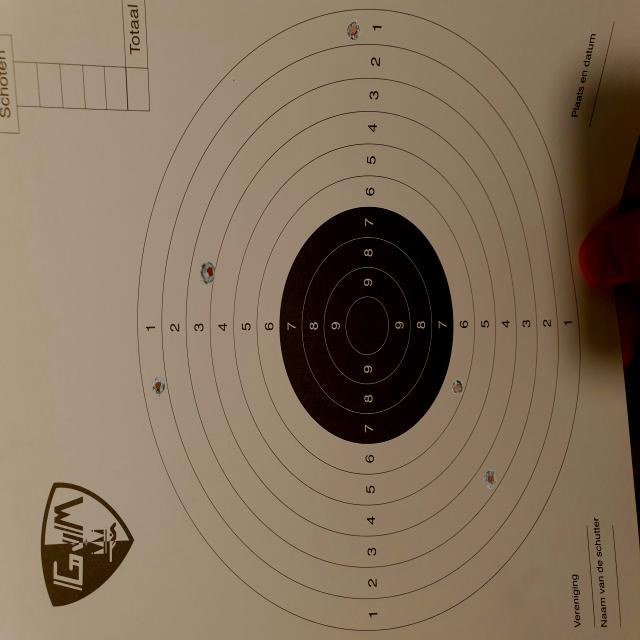1: (346, 18, 361, 42), (152, 375, 165, 397)
3: (483, 468, 497, 489)
4: (200, 261, 217, 285)
6: (452, 379, 464, 395)
Target: (137, 8, 579, 632)
black_contour: (280, 206, 453, 444)
